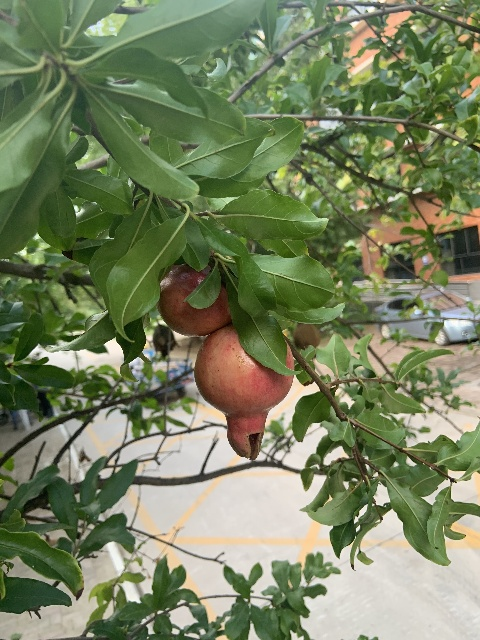ripe: (194, 323, 295, 461), (157, 262, 230, 336)
